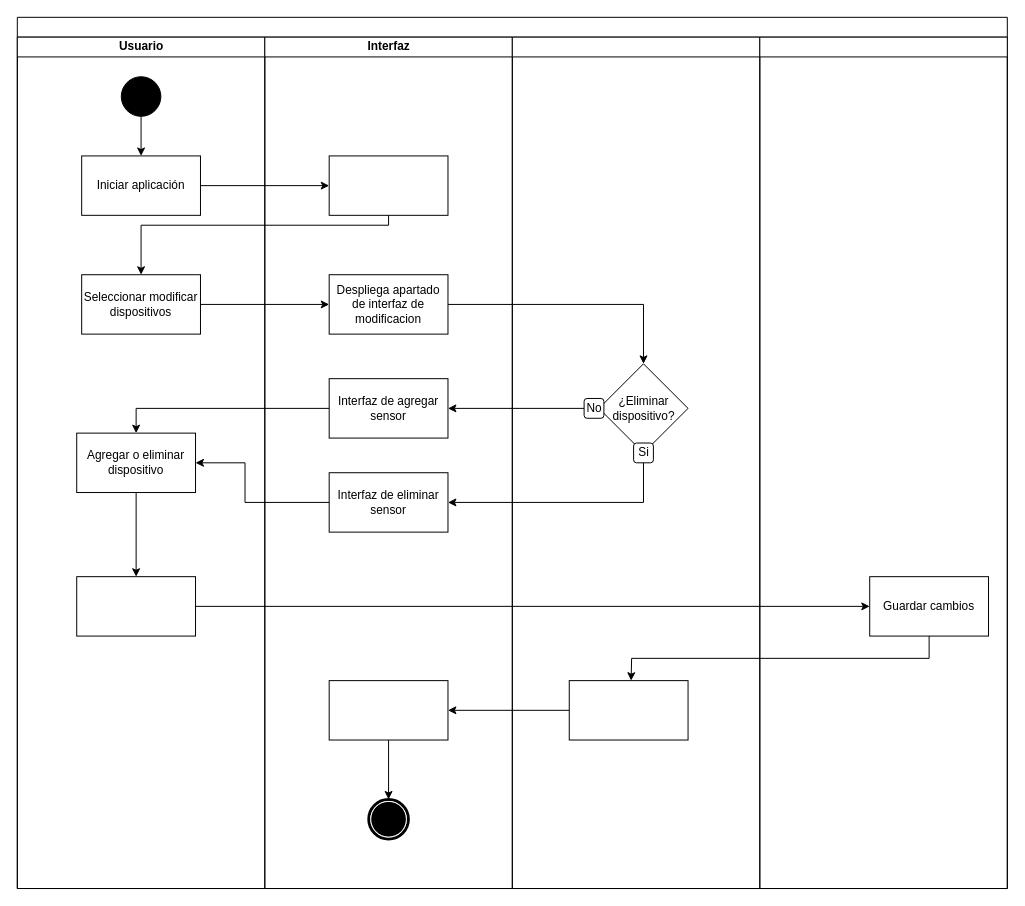
Image size: 1025x906. Some labels were removed from this diagram. Each missing label, with the box of its shape:
Aplicar cambios: (76, 576, 196, 636)
Base de datos: (759, 36, 1007, 889)
Capa de negocio: (511, 36, 760, 889)
Despliega apartado Menú principal: (328, 155, 448, 215)
Notificacion de cambios: (328, 680, 448, 740)
Validar datos: (568, 680, 688, 740)
